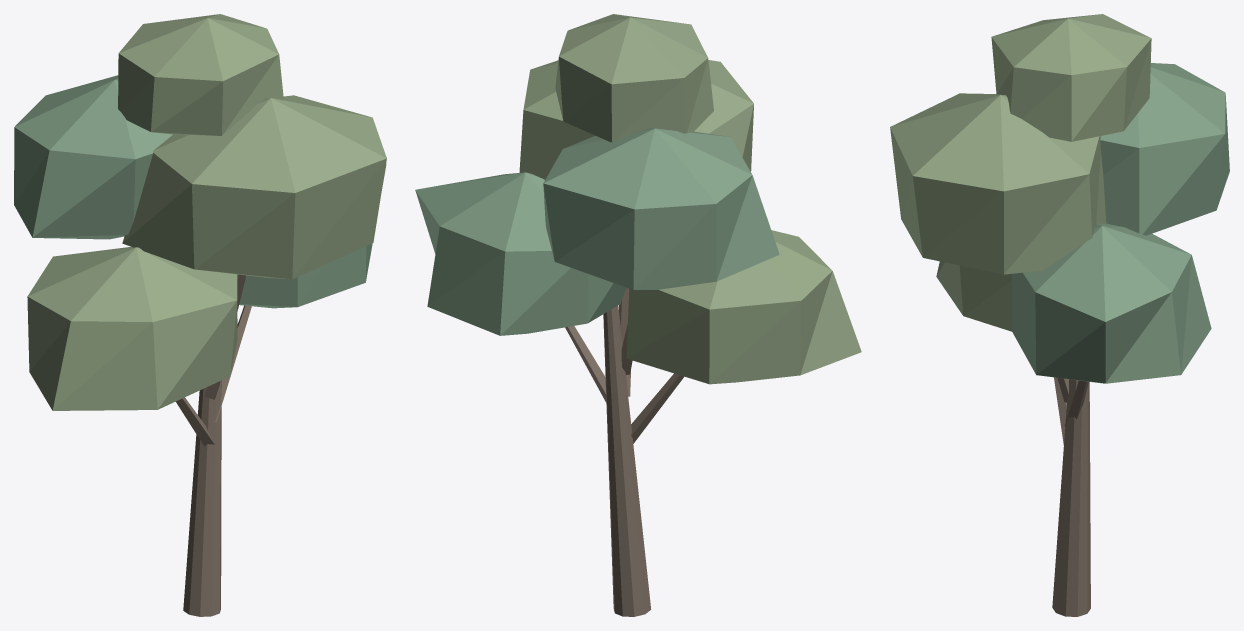
3 views of the same model, side by side, from view 1: azimuth 30°, elevation 25°; view 2: azimuth 150°, elevation 25°; view 3: azimuth 270°, elevation 25° (orthographic).
Bounding box in the file's own units: 13.32 × 19.29 × 10.03.
